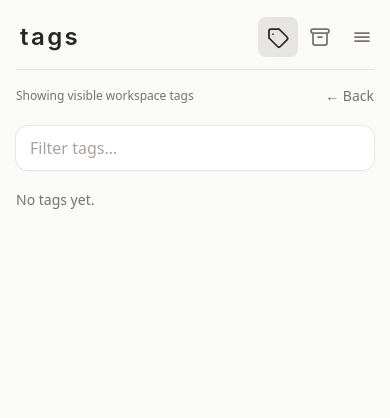
Scenario: Tags ↔ Archive header toggles › from Tags, Archive navigates to notes and shows only archive as pressed
Expected: the heading "Tags" is shown, x1=20 y1=21 x2=80 y2=53
Click the button named "Archive and history" at (320, 37), box x1=300 y1=17 x2=340 y2=57
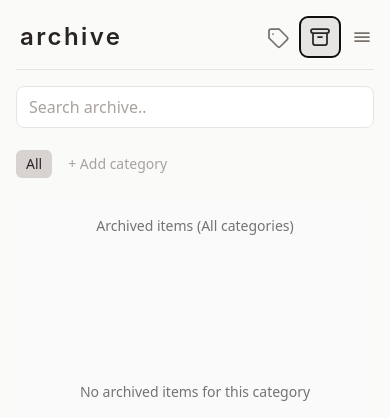
Now the heading "Archive" is shown, box x1=20 y1=21 x2=122 y2=53
